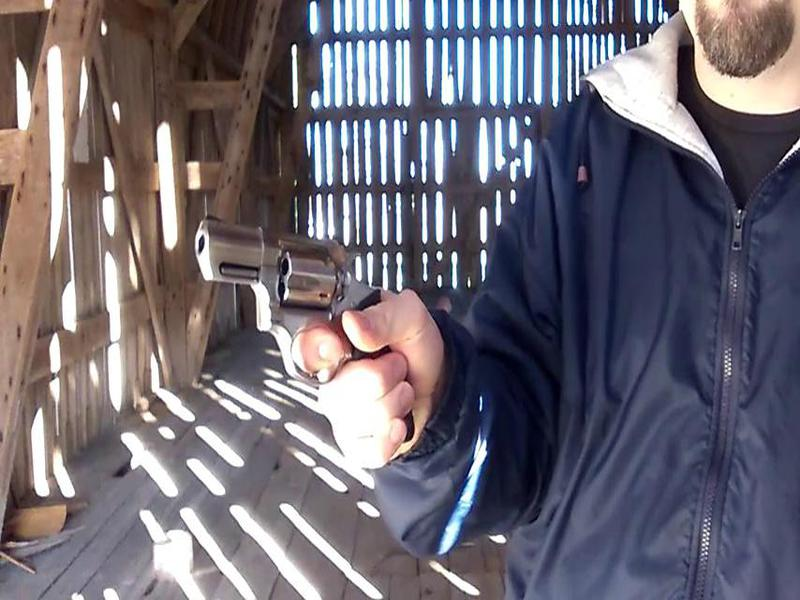Revolver: (185, 201, 407, 394)
